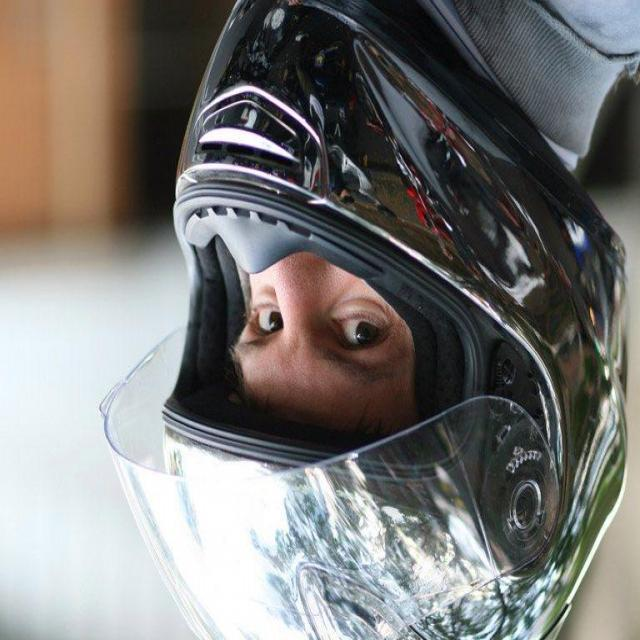Helm: (100, 0, 632, 640)
